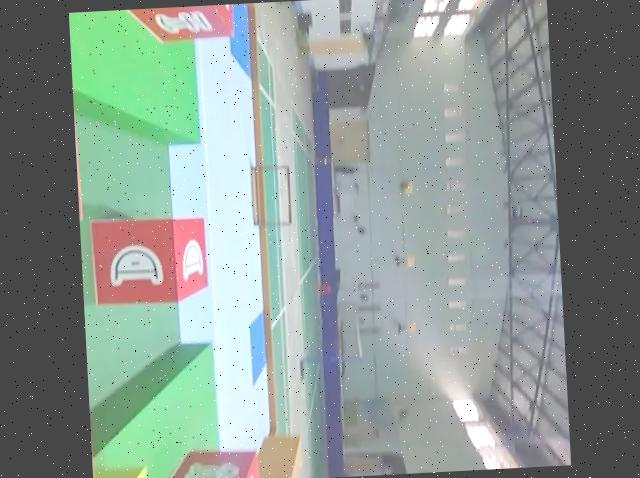R2 Real: (91, 208, 215, 310), (117, 4, 241, 45), (153, 442, 261, 478)
